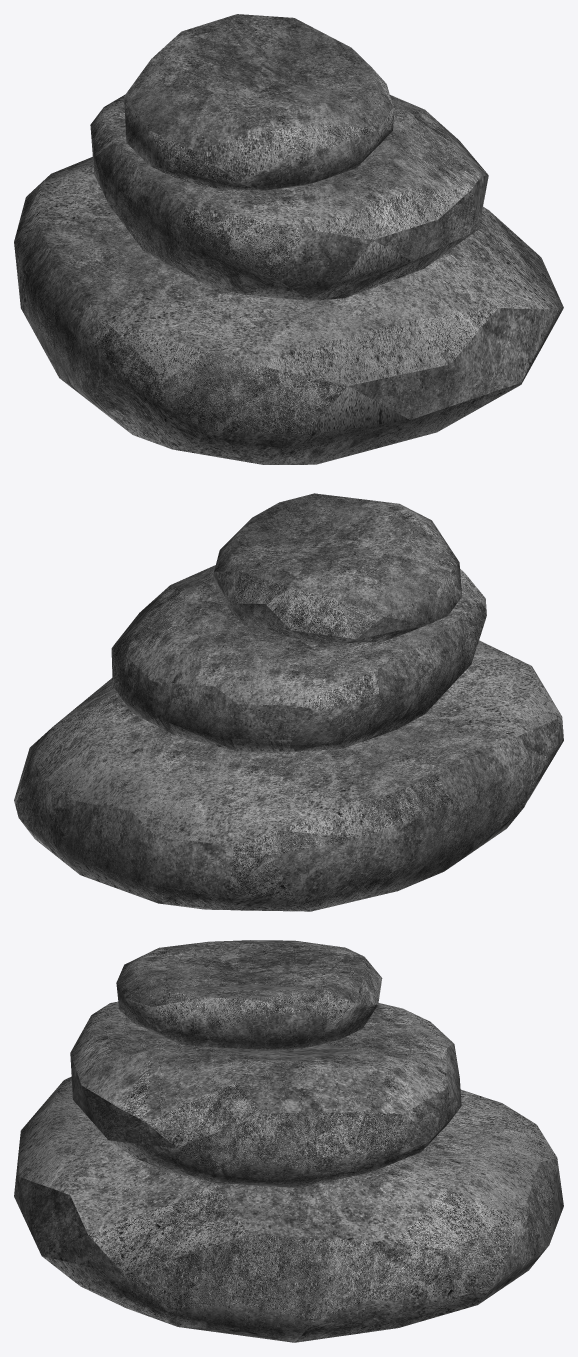
File: Zen stones.FBX
3 renders of one model, top to bottom at view 1: azimuth 30°, elevation 25°; view 2: azimuth 150°, elevation 25°; view 3: azimuth 270°, elevation 25°, orthographic. The views are drawn at different scales.
Parts seen in each view (by area): view 1: Zen stones; view 2: Zen stones; view 3: Zen stones.
Boxes of the visible parts, x1,y1,x2,y2 form: Zen stones: [14, 14, 563, 464]; Zen stones: [14, 493, 563, 911]; Zen stones: [14, 940, 563, 1342].
Bounding box in the file's own units: 18.31 × 11.86 × 20.58.
1 material, 1 textured.
